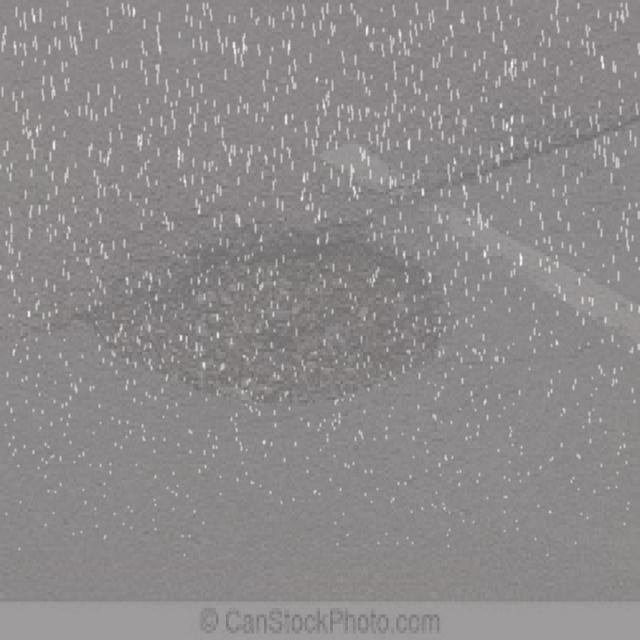Pothole: (85, 220, 459, 413)
